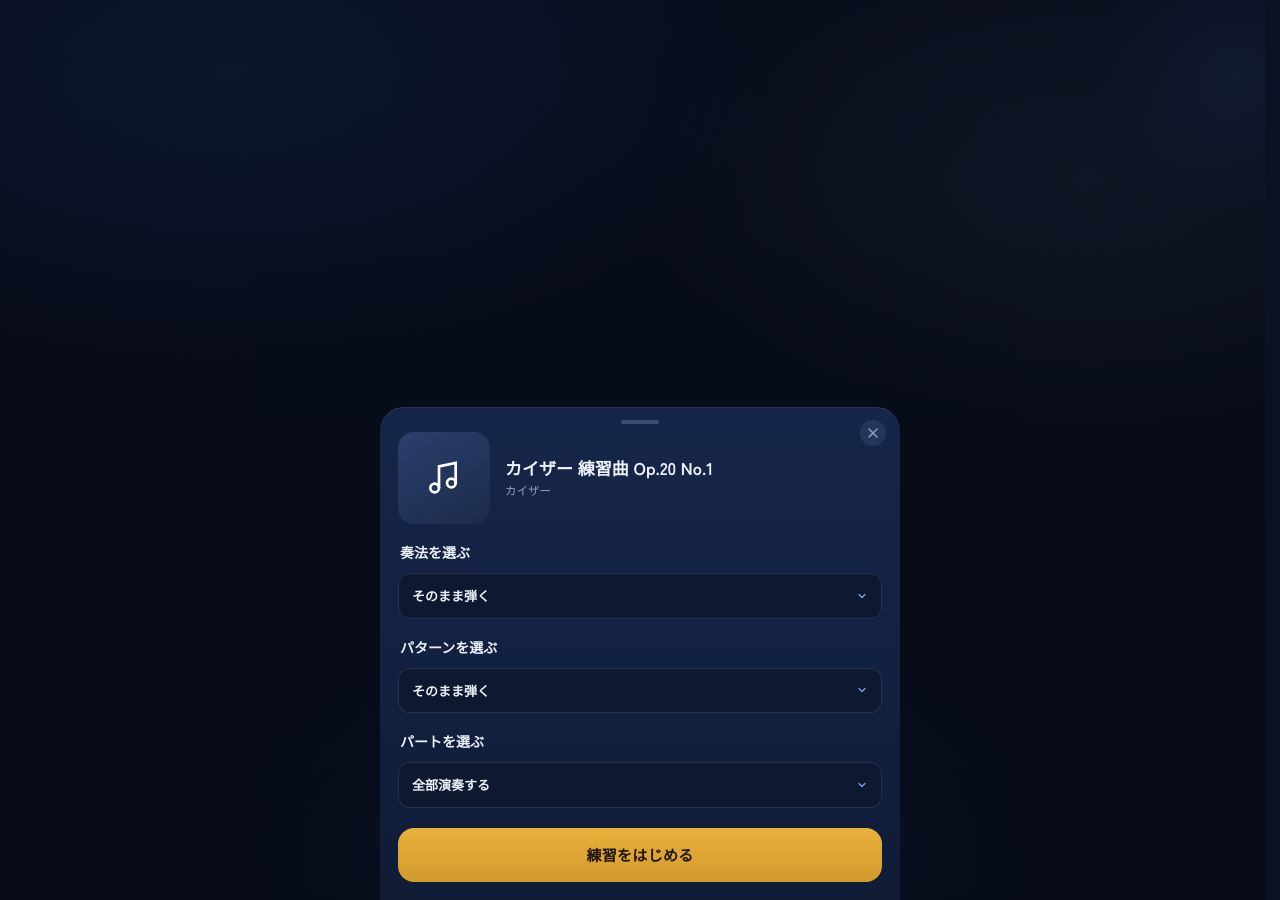
練習前シート (エチュード・奏法軸) › 奏法を選ぶとパターン欄が消える
Select "スラー ・ ☆2" in the 1st dropdown at (640, 596), box [398, 573, 882, 618]
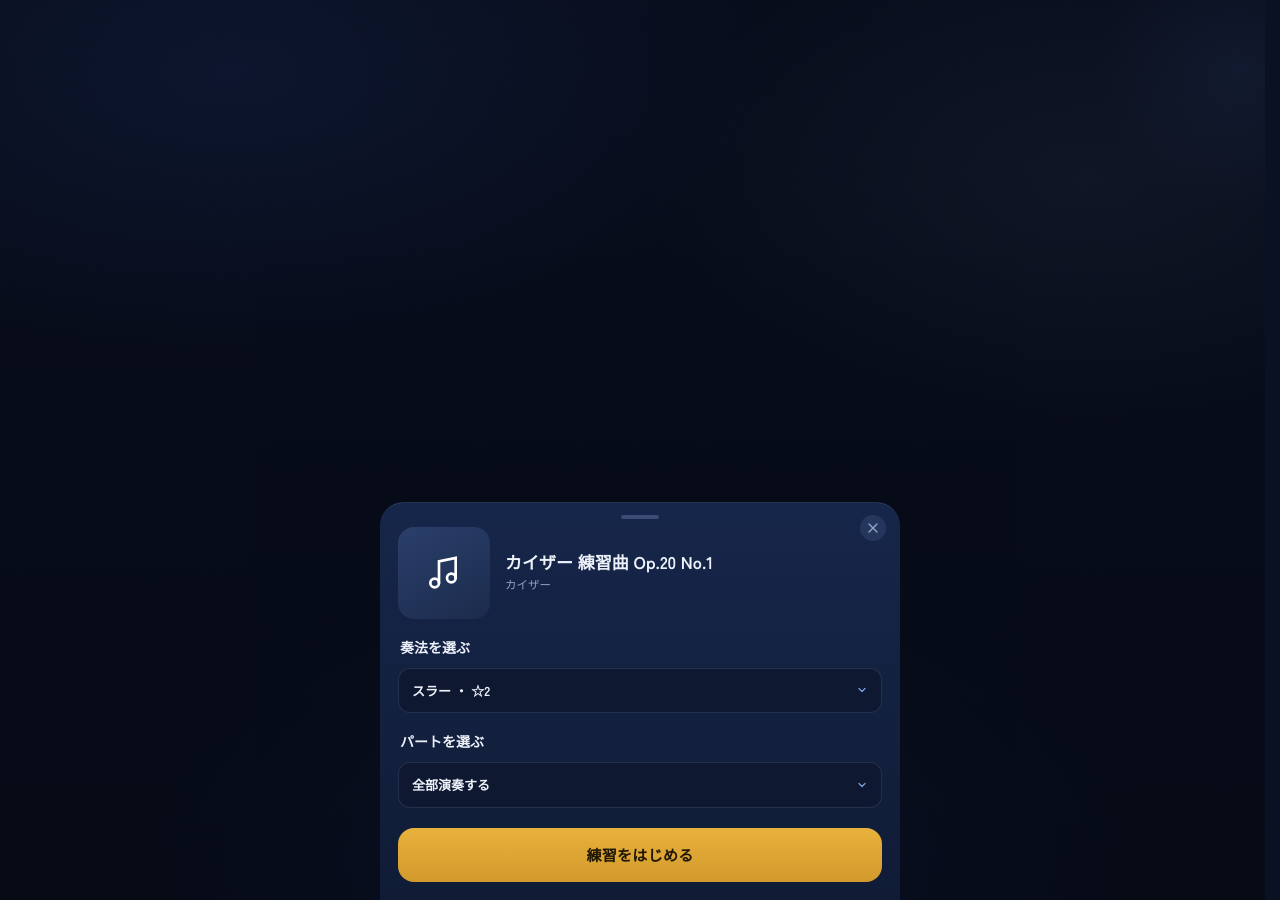
expect the text "奏法を選ぶ" is shown: met, box [400, 636, 470, 656]
expect the text "パターンを選ぶ" is gone: met
